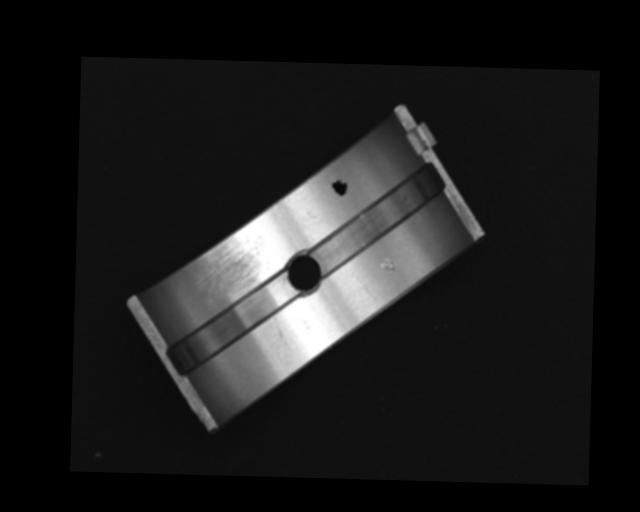blot: (329, 177, 348, 196)
bruise: (379, 256, 398, 272)
gap: (310, 164, 439, 275), (165, 277, 293, 380)
hole: (284, 252, 324, 294)
nick: (273, 313, 290, 357), (353, 274, 377, 299)
scratch: (193, 230, 268, 297)
